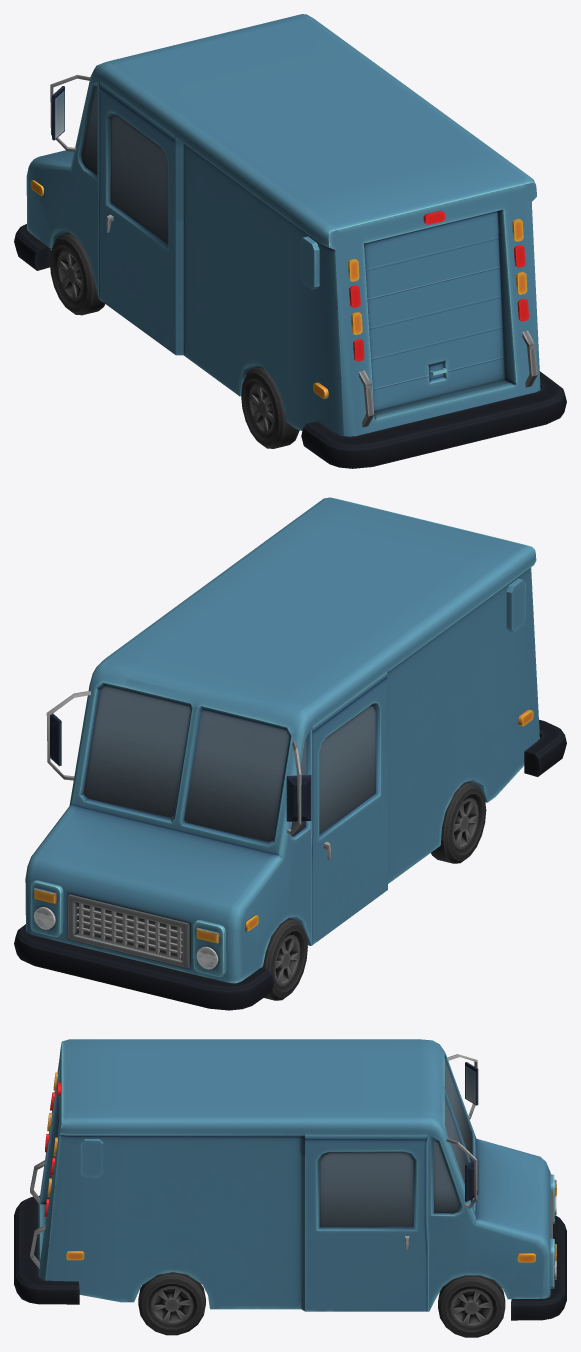
File: delivery_truck.glb
The picture shows the model from 3 angles, top to bottom: view 1: azimuth 30°, elevation 25°; view 2: azimuth 150°, elevation 25°; view 3: azimuth 270°, elevation 25°; orthographic projection. The views are drawn at different scales.
Parts seen in each view (by area): view 1: Object_2; view 2: Object_2; view 3: Object_2.
Part boxes in pixels (bbox=[...]): Object_2: bbox=[14, 14, 566, 468]; Object_2: bbox=[14, 497, 566, 1010]; Object_2: bbox=[14, 1039, 566, 1337].
Size of the model in its own units: 262 by 255 by 591.
1 material, 1 textured.
